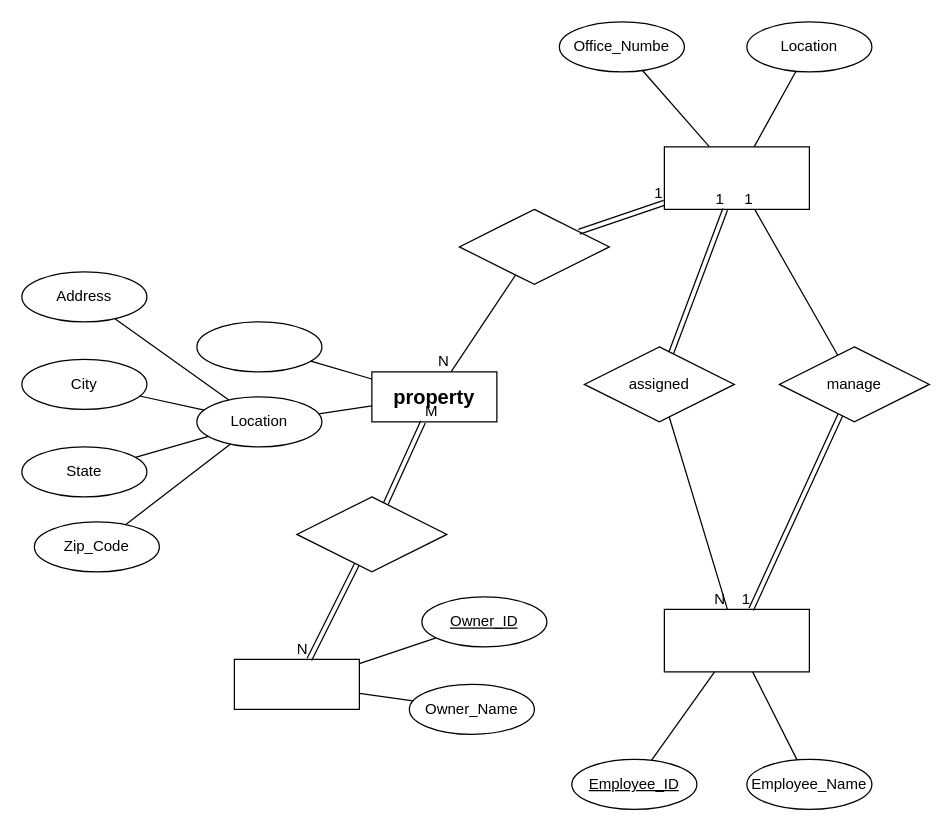
The diagram is 951 pixels wide and 831 high, and some of its shapes have lost their labels. Each missing label, with the centre of its shape:
employees: [736,640]
owned by: [371,534]
owners: [296,683]
Property_ID: [259,346]
Relationship: [533,246]
sales offices: [736,177]
